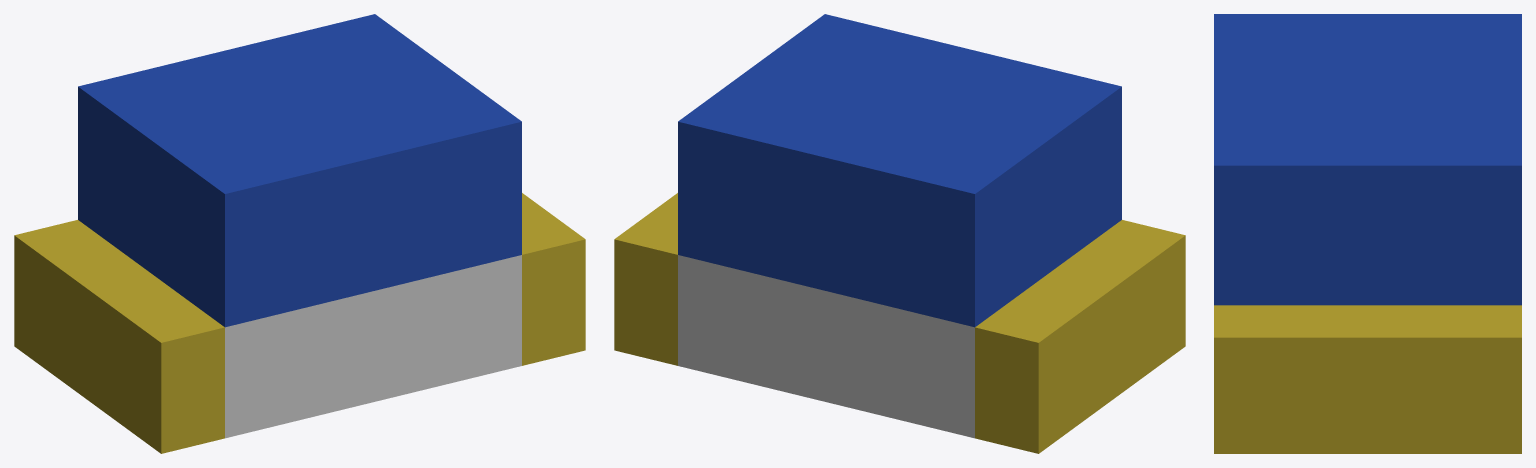
Rendered from __mod__.glb.
The picture shows the model from 3 angles, left to right: view 1: azimuth 30°, elevation 25°; view 2: azimuth 150°, elevation 25°; view 3: azimuth 270°, elevation 25°; orthographic projection. The views are drawn at different scales.
Visible parts, largest first — view 1: Plane; view 2: Plane; view 3: Plane.
Boxes of the visible parts, left/top/right/bottom form: Plane: left=14, top=14, right=585, bottom=453; Plane: left=614, top=14, right=1185, bottom=453; Plane: left=1214, top=14, right=1521, bottom=453.
Size of the model in its own units: 0.002 by 0.0011 by 0.0012.
